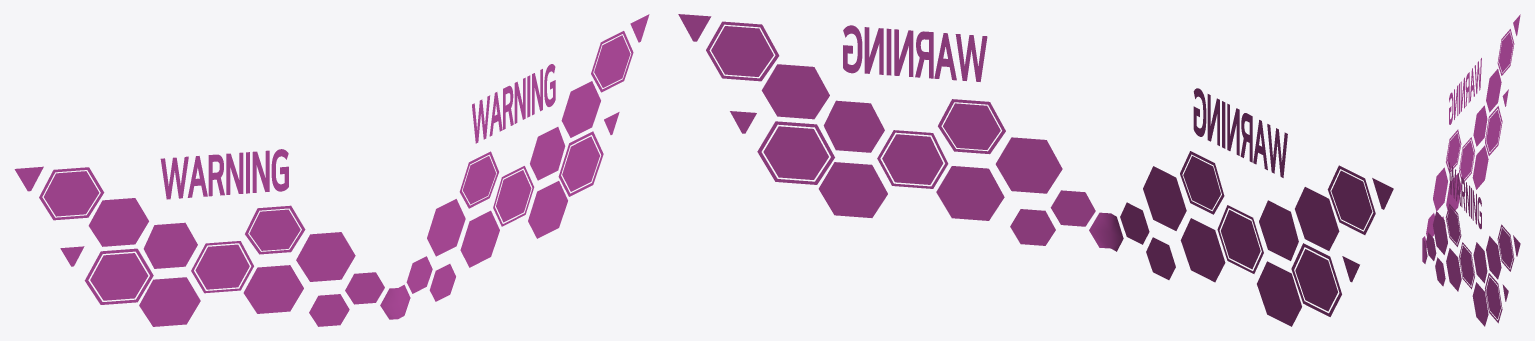
Rendered from FX_MESH_Chesd_pan_03.fbx.
3 views of the same model, side by side, from view 1: azimuth 30°, elevation 25°; view 2: azimuth 150°, elevation 25°; view 3: azimuth 270°, elevation 25° (orthographic). The views are drawn at different scales.
Parts seen in each view (by area): view 1: FX_MESH_Chesd_pan_03; view 2: FX_MESH_Chesd_pan_03; view 3: FX_MESH_Chesd_pan_03.
Part boxes in pixels (x1,y1,x2,y2): FX_MESH_Chesd_pan_03: (14, 14, 649, 326); FX_MESH_Chesd_pan_03: (678, 14, 1393, 326); FX_MESH_Chesd_pan_03: (1422, 14, 1520, 326).
Size of the model in its own units: 7.38 by 2.02 by 1.34.
